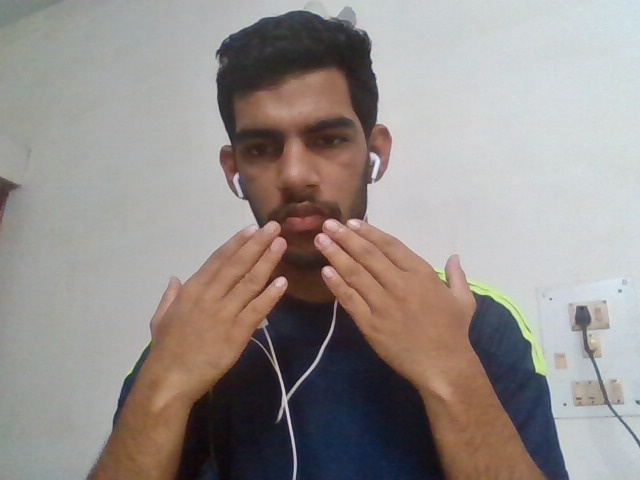thanks: (138, 218, 513, 375)
